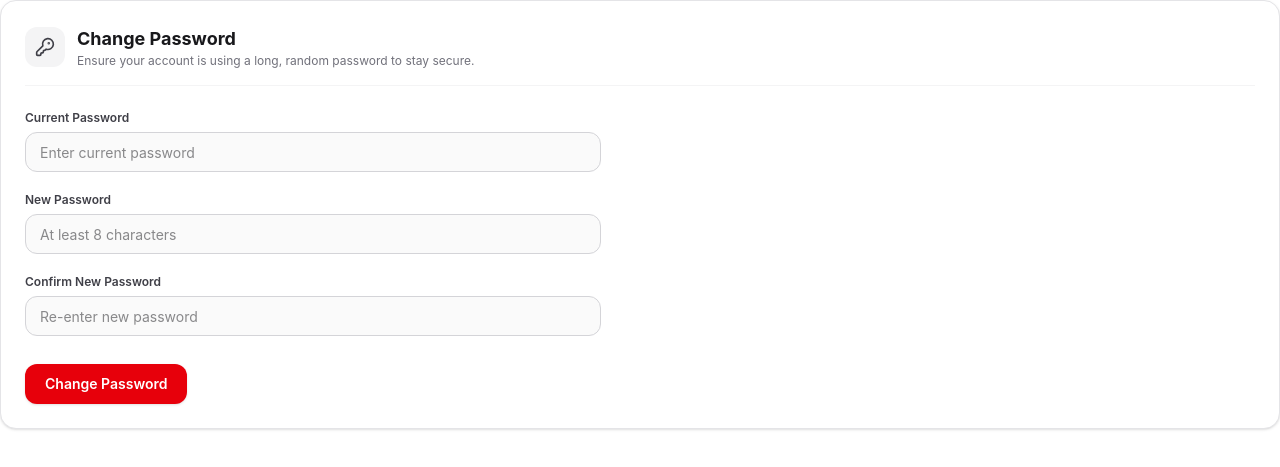
Test case: Task U5: Account Settings Page & Components › Password Settings › client validation catches password mismatch
Type "CurrentPass123" into the password field labelled "Current Password".
click(313, 152); type("CurrentPass123")  # box [25,132,601,172]
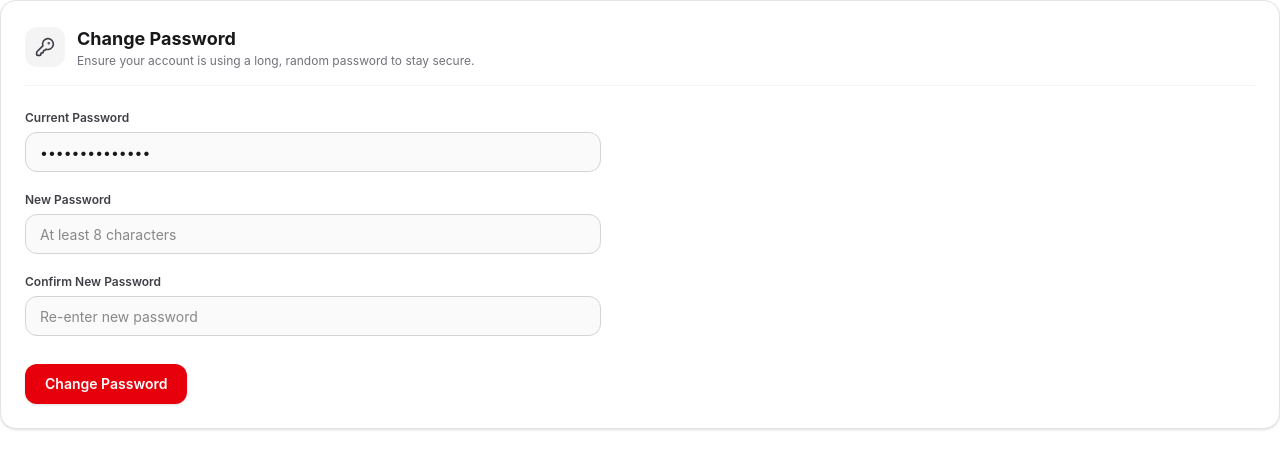
Type "NewPassword123" into the password field labelled "New Password".
click(313, 234); type("NewPassword123")  # box [25,214,601,254]
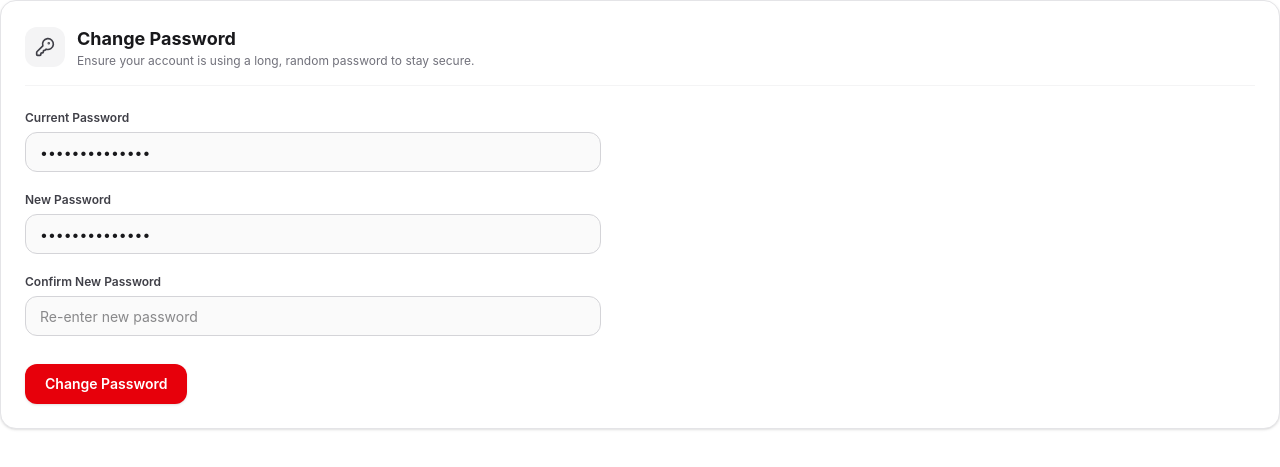
Type "DifferentPassword123" into the password field labelled "Confirm New Password".
click(313, 316); type("DifferentPassword123")  # box [25,296,601,336]
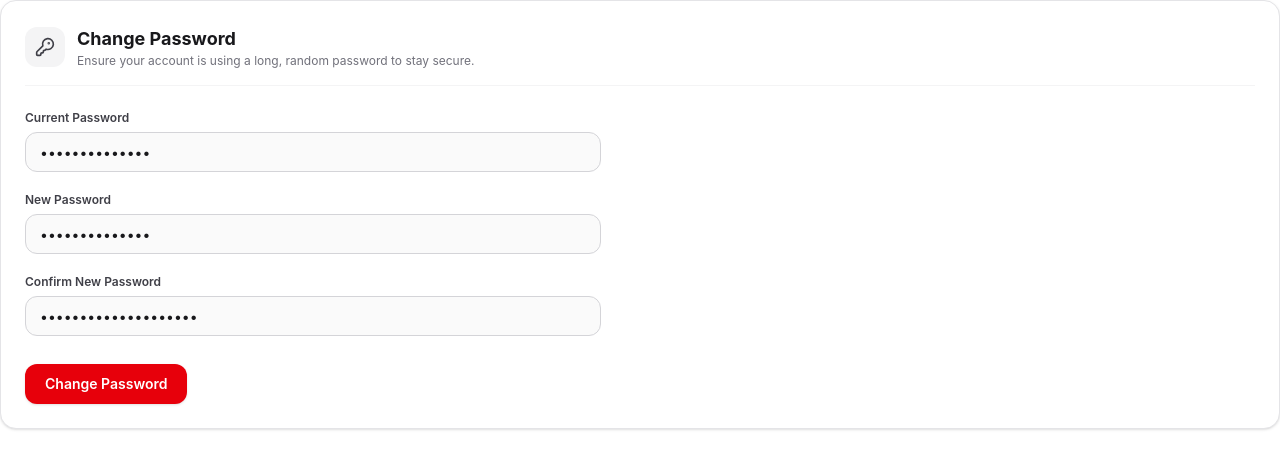
Click the button "Change Password".
click(106, 384)  # box [25,364,187,404]
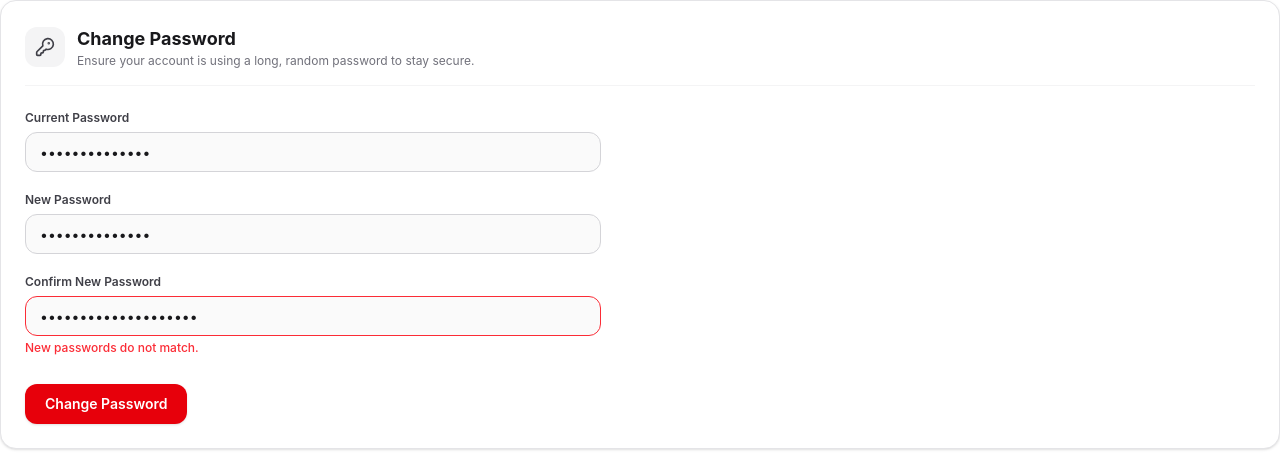
Check: the text "New passwords do not match." is shown, box [25,340,199,355]
